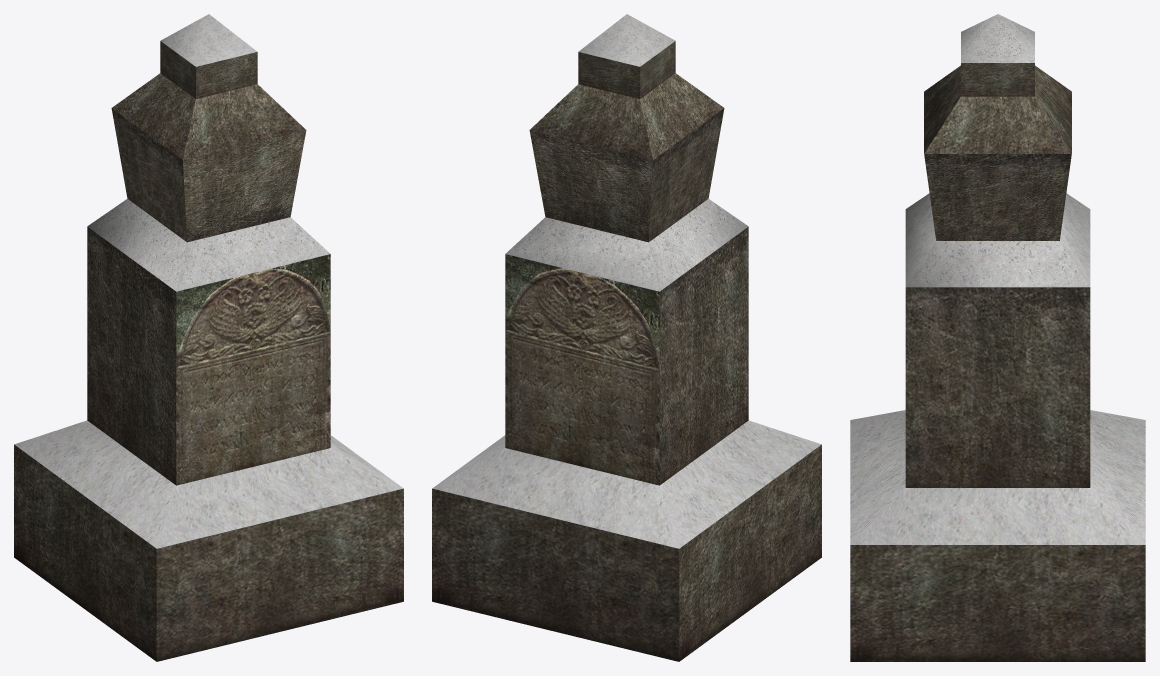
The model's file is tombstone_lg_02_snow.fbx.
The picture shows the model from 3 angles, left to right: view 1: azimuth 30°, elevation 25°; view 2: azimuth 150°, elevation 25°; view 3: azimuth 270°, elevation 25°; orthographic projection. The views are drawn at different scales.
Visible parts, largest first — view 1: mesh_0, mesh_2, mesh_1; view 2: mesh_0, mesh_2, mesh_1; view 3: mesh_0, mesh_2.
Boxes of the visible parts, x1,y1,x2,y2 form: mesh_0: (14, 41, 403, 661); mesh_2: (14, 14, 403, 548); mesh_1: (176, 254, 330, 485); mesh_0: (432, 41, 821, 661); mesh_2: (432, 14, 821, 548); mesh_1: (505, 254, 659, 485); mesh_0: (850, 63, 1145, 661); mesh_2: (850, 14, 1145, 544).
Size of the model in its own units: 160 by 350 by 160.
3 materials, 3 textured.
